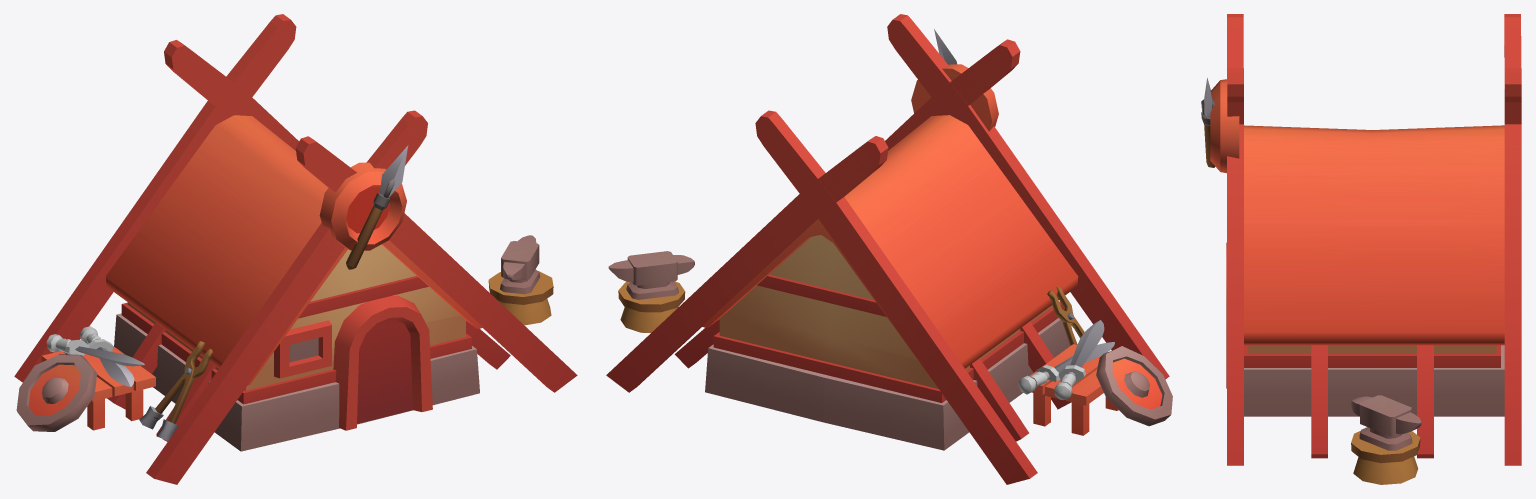
The model's file is SpearHouseV11.fbx.
The picture shows the model from 3 angles, left to right: view 1: azimuth 30°, elevation 25°; view 2: azimuth 150°, elevation 25°; view 3: azimuth 270°, elevation 25°; orthographic projection. The views are drawn at different scales.
Visible parts, largest first — view 1: Cube.212, Cube.029, Cube.217, Cube.220, Cube.219, Cube.214, Cylinder.076, Circle.024, Cube.218, Cube.215, Cube.222, Plane.055 (+6 smaller); view 2: Cube.029, Cube.212, Cube.219, Cube.217, Cube.218, Cylinder.076, Cube.215, Cube.214, Cube.221, Cube.222, Circle.049, Sword.010 (+3 smaller); view 3: Cube.212, Cube.029, Cube.218, Cube.214, Cube.215, Cube.221, Circle.049, Circle.024, Cube.219, Cube.217, Cylinder.016.
Boxes of the visible parts, <box> form: Cube.212: <box>105,115,483,385</box>; Cube.029: <box>114,244,479,451</box>; Cube.217: <box>146,110,427,484</box>; Cube.220: <box>333,295,432,430</box>; Cube.219: <box>14,14,296,382</box>; Cube.214: <box>295,136,577,392</box>; Cylinder.076: <box>16,354,97,431</box>; Circle.024: <box>319,162,406,250</box>; Cube.218: <box>164,40,298,150</box>; Cube.215: <box>107,321,510,441</box>; Cube.222: <box>41,346,155,430</box>; Plane.055: <box>274,320,331,378</box>; Cube.029: <box>705,235,1070,450</box>; Cube.212: <box>702,115,1078,374</box>; Cube.219: <box>755,110,1037,484</box>; Cube.217: <box>887,14,1169,379</box>; Cube.218: <box>606,136,888,392</box>; Cylinder.076: <box>1096,346,1172,426</box>; Cube.215: <box>674,319,1071,441</box>; Cube.214: <box>885,39,1020,150</box>; Cube.221: <box>608,251,694,299</box>; Cube.222: <box>1029,344,1118,435</box>; Circle.049: <box>618,281,685,332</box>; Sword.010: <box>1054,320,1104,400</box>; Cube.212: <box>1244,125,1504,345</box>; Cube.029: <box>1244,345,1504,416</box>; Cube.218: <box>1504,14,1521,465</box>; Cube.214: <box>1227,14,1243,465</box>; Cube.215: <box>1311,345,1433,458</box>; Cube.221: <box>1351,395,1421,450</box>; Circle.049: <box>1351,431,1420,484</box>; Circle.024: <box>1210,79,1239,173</box>; Cube.219: <box>1504,68,1521,124</box>; Cube.217: <box>1227,68,1243,124</box>; Cylinder.016: <box>1201,78,1215,167</box>.
Size of the model in its own units: 2.27 by 1.26 by 1.12.
